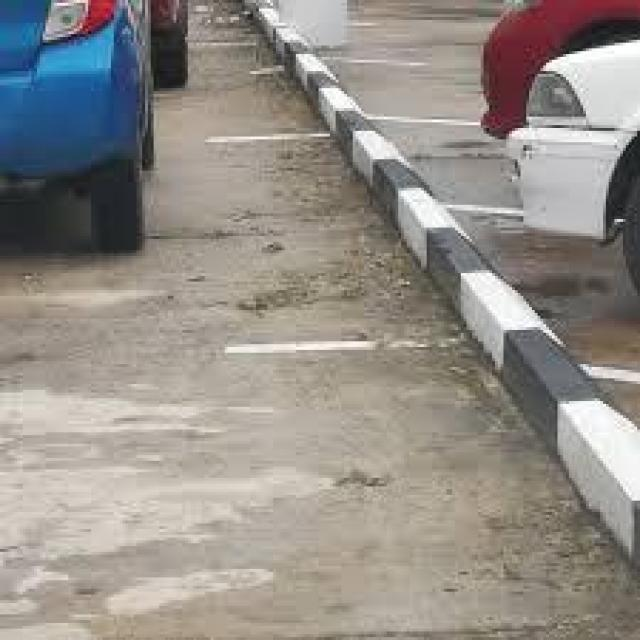curb: (235, 4, 639, 575)
